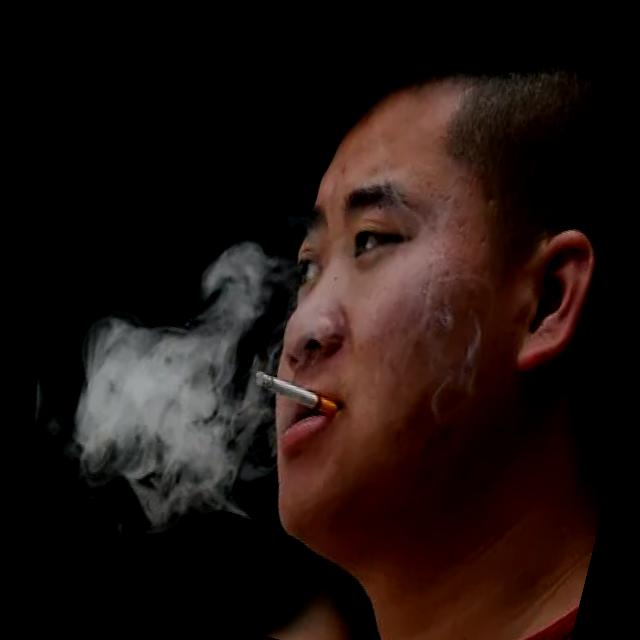cigarette: (238, 358, 351, 430)
